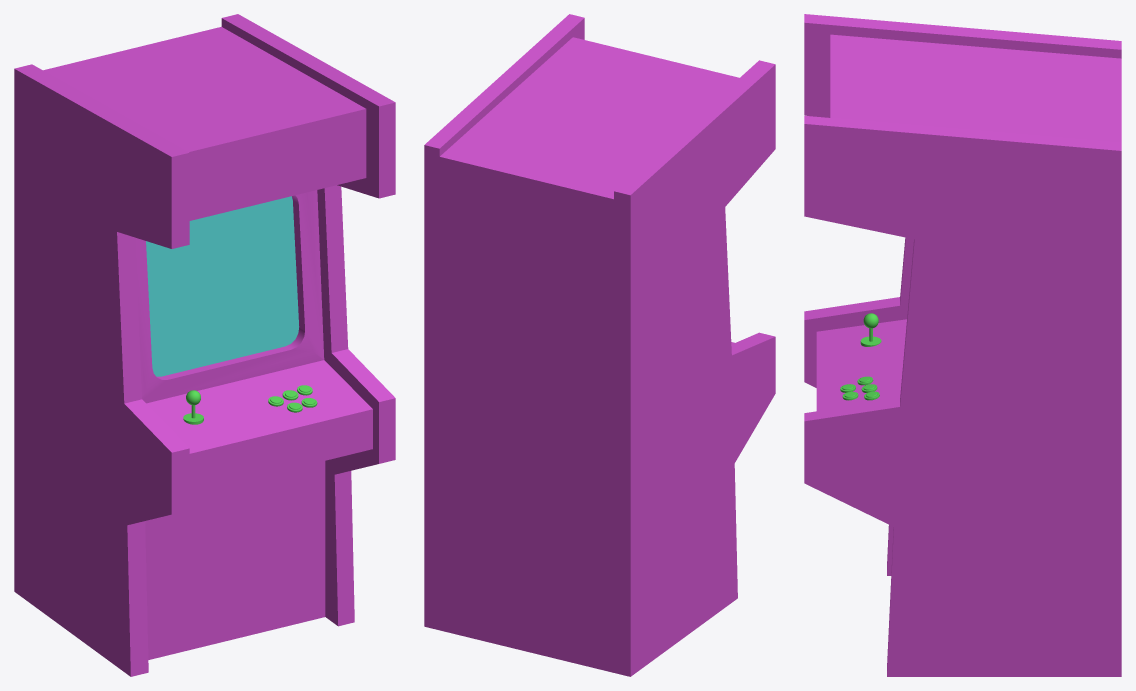
File: ArcadeMachine1.fbx
The picture shows the model from 3 angles, left to right: view 1: azimuth 30°, elevation 25°; view 2: azimuth 150°, elevation 25°; view 3: azimuth 270°, elevation 25°; orthographic projection. The views are drawn at different scales.
Visible parts, largest first — view 1: Arcade_Machine; view 2: Arcade_Machine; view 3: Arcade_Machine.
Boxes of the visible parts, x1,y1,x2,y2 form: Arcade_Machine: (14,14,395,676); Arcade_Machine: (424,14,775,676); Arcade_Machine: (804,14,1121,676).
Size of the model in its own units: 2.95 by 6.93 by 3.6.
